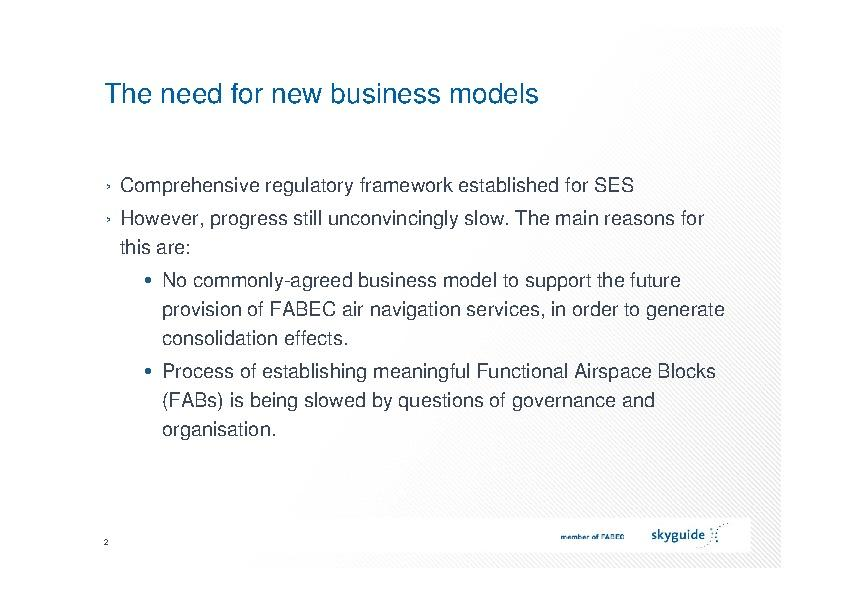paragraph: (90, 159, 790, 473)
title: (93, 73, 553, 126)
